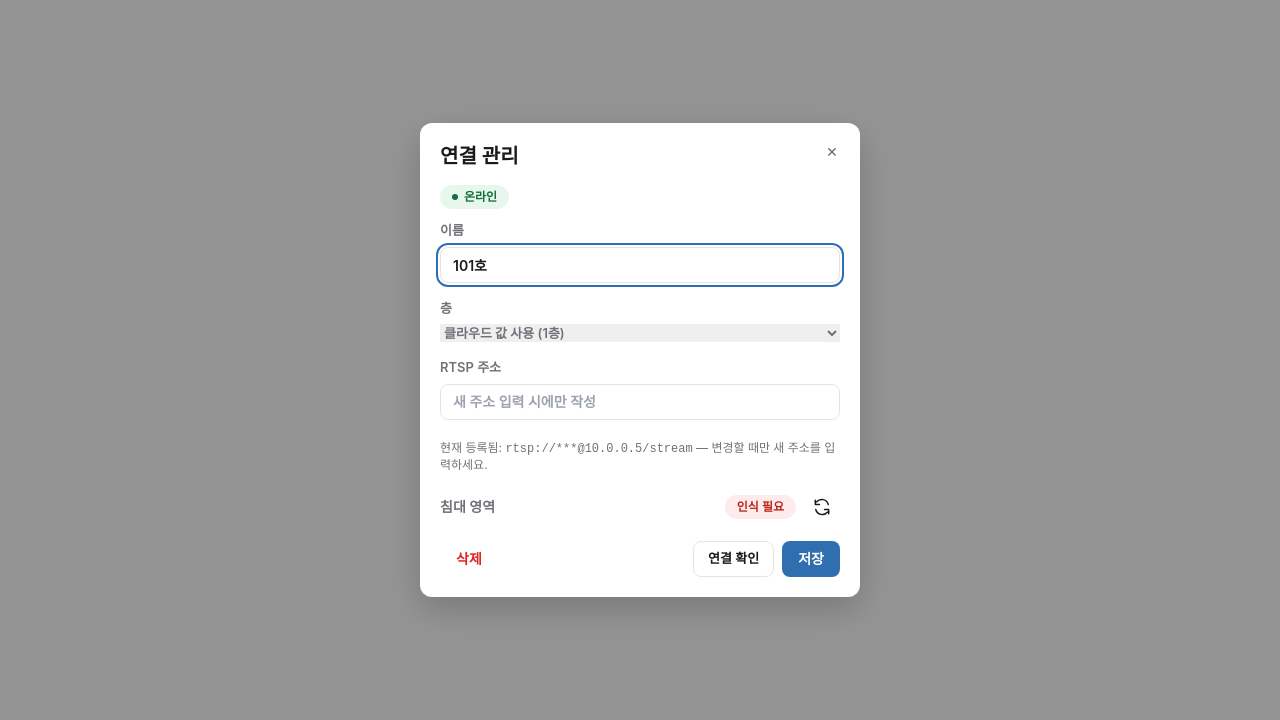
Test: CameraEditModal › shows a failure message when the connection test fails
The width and height of the screenshot is (1280, 720).
Click the button "연결 확인" at {"x": 734, "y": 559}, box [693, 541, 774, 577]
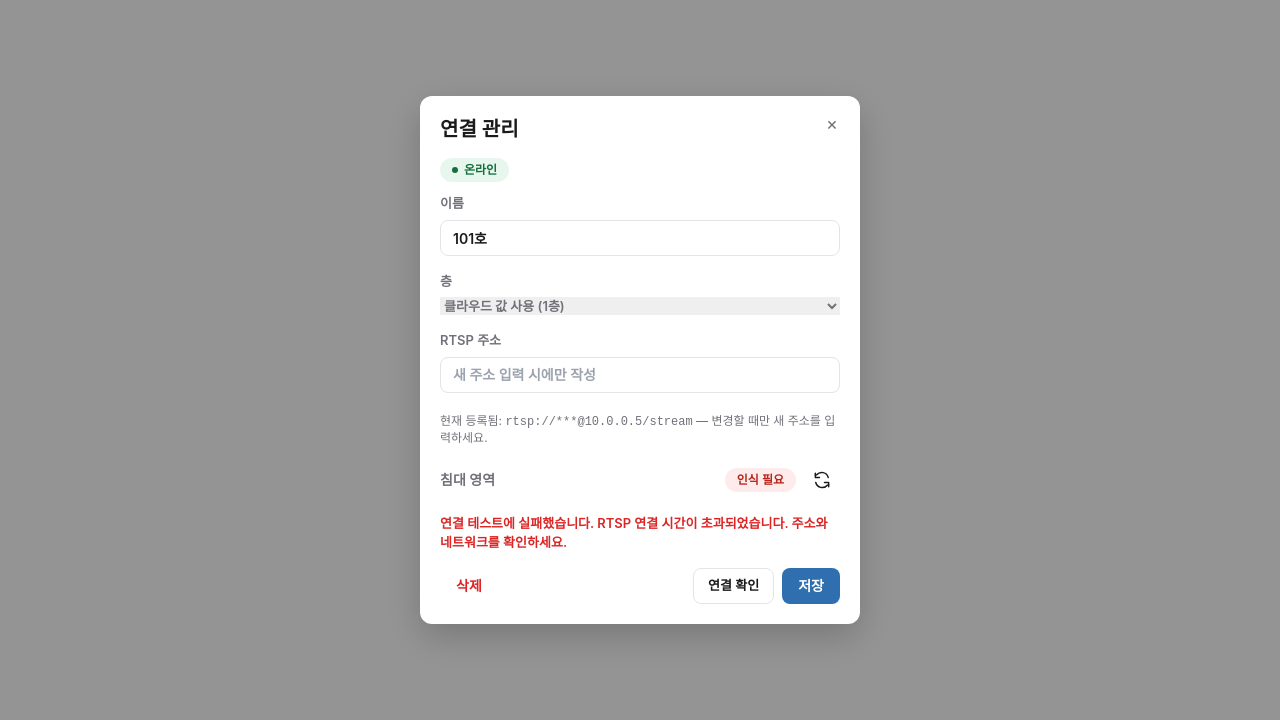
Expected: the message "연결 테스트에 실패했습니다. RTSP 연결 시간이 초과되었습니다. 주소와 네트워크를 확인하세요." is shown, [440, 514, 840, 552]
